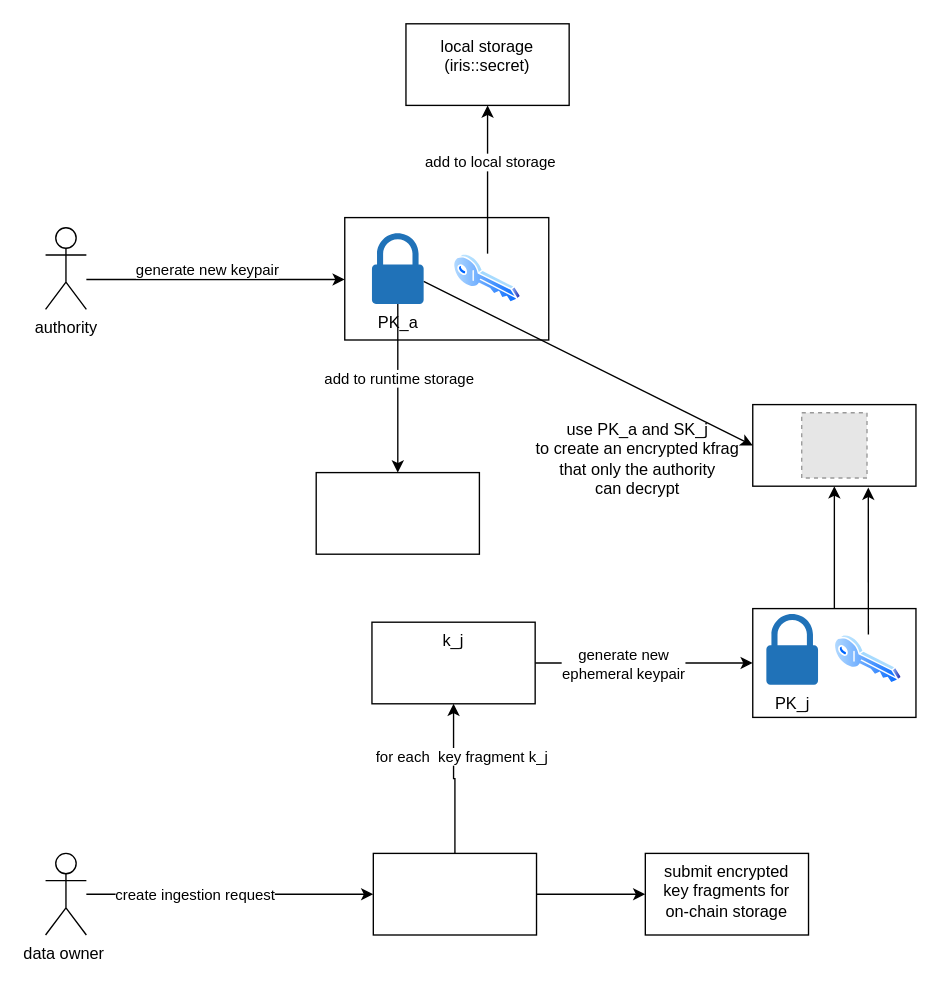
The diagram is 940 pixels wide and 987 high, and some of its shapes have lost their labels. Grey dashed boxes stand in for pictures. The shapes that lost their labels are listed below. From the top down, each one's centre as x and y in pixels, then its label:
At (x=487, y=278): "SK_a".
At (x=397, y=512): "runtime storage (PKMap)".
At (x=868, y=659): "SK_j".
At (x=454, y=893): "{k1, ..., k_shares}".
